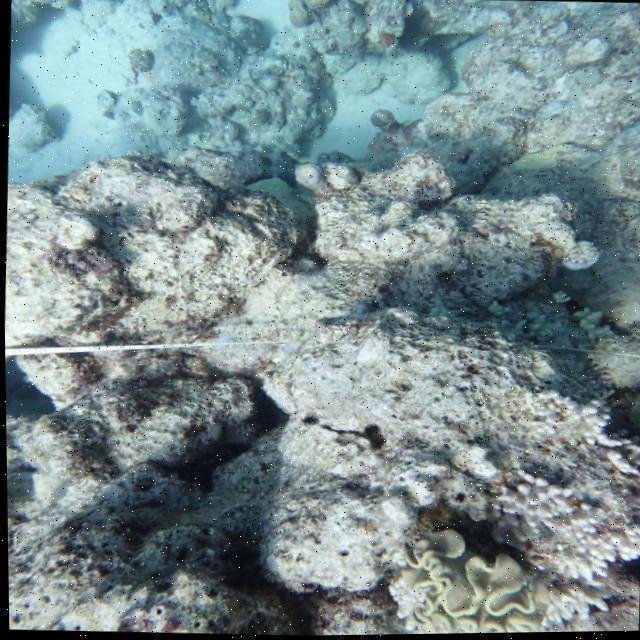Bleached Coral: (489, 446, 640, 624)
